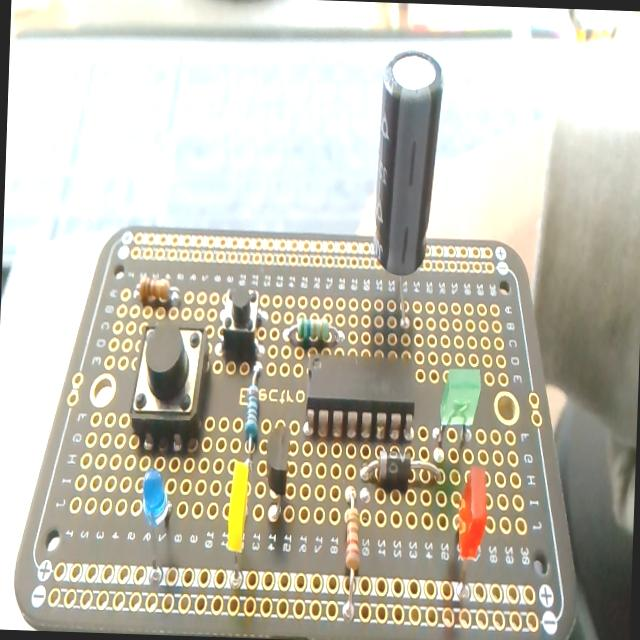Electrolytic capacitor: (369, 52, 443, 326)
IC: (304, 350, 420, 440)
diode: (357, 447, 444, 490)
led: (452, 465, 488, 605), (434, 363, 482, 461), (222, 460, 250, 602), (134, 462, 172, 530)
resistor: (339, 486, 363, 618), (283, 311, 345, 350), (134, 273, 180, 309), (244, 362, 262, 448)
switch: (126, 316, 208, 452), (216, 285, 263, 365)
transistor: (263, 421, 294, 523)
